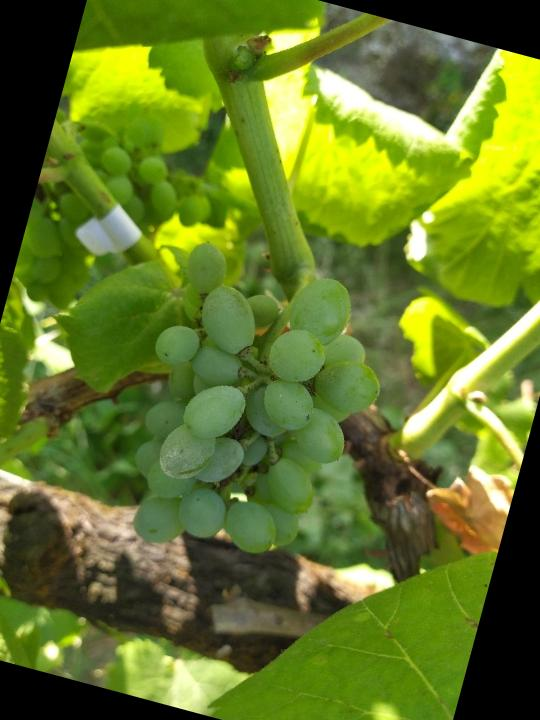grape: (103, 229, 411, 595)
